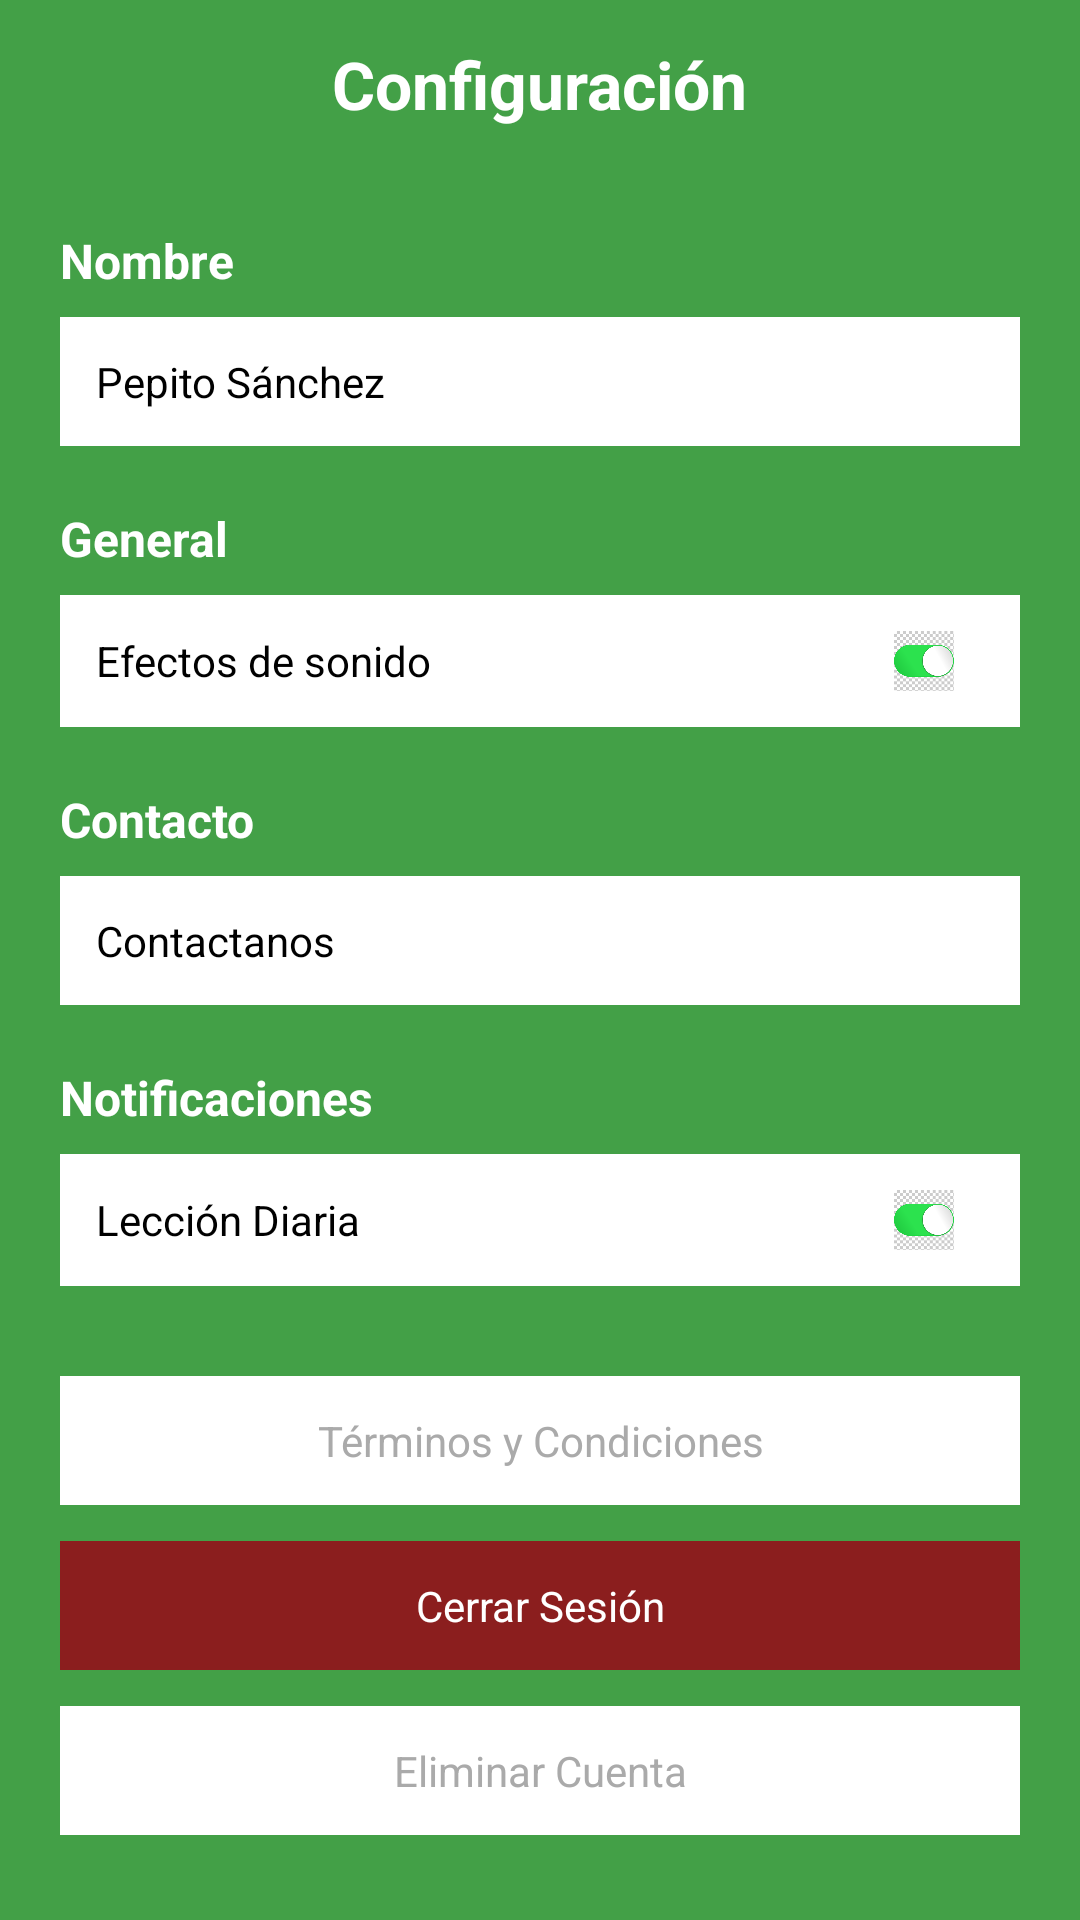

Icon click points for this 1080 x 1920 phone screenshot, format point (x, y):
switch on: point (924, 661), point (924, 1220)
